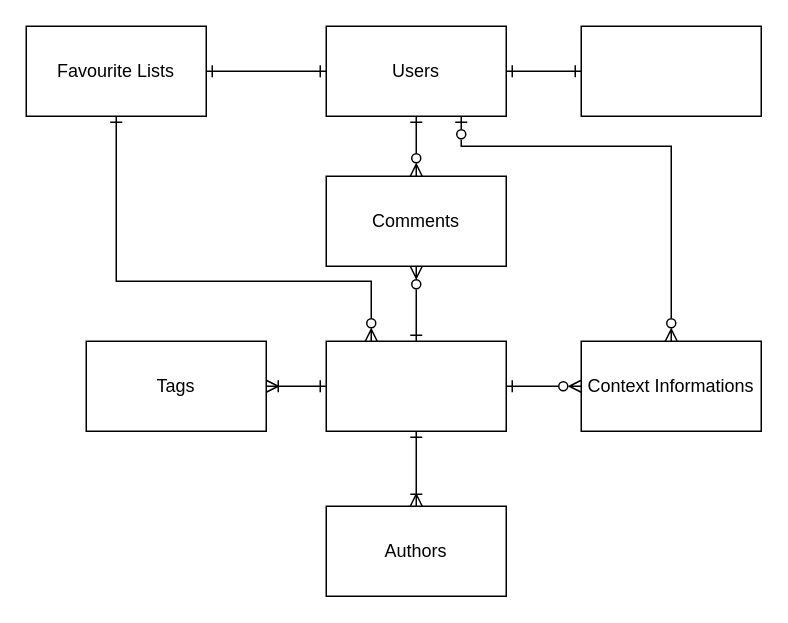
The diagram is 788 pixels wide and 623 high, and some of its shapes have lost their labels. Here are the shapes that lost their labels. From the top down, the box of each, then its label:
(580, 25, 761, 116): Roles
(325, 340, 506, 431): News
